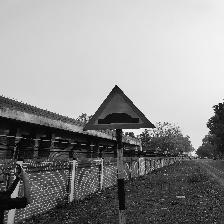Speed-breaker: (83, 86, 155, 130)
